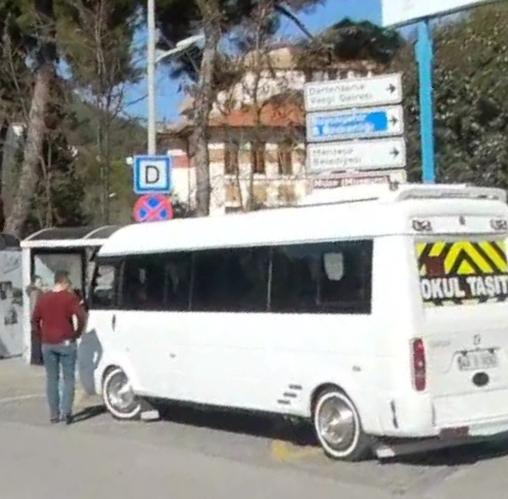station: (134, 157, 171, 193)
